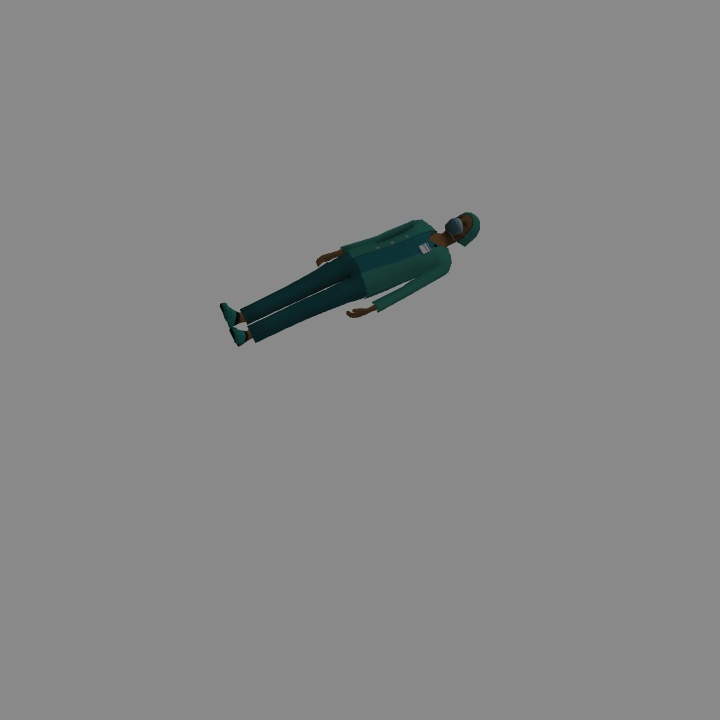victim: (225, 210, 482, 344)
